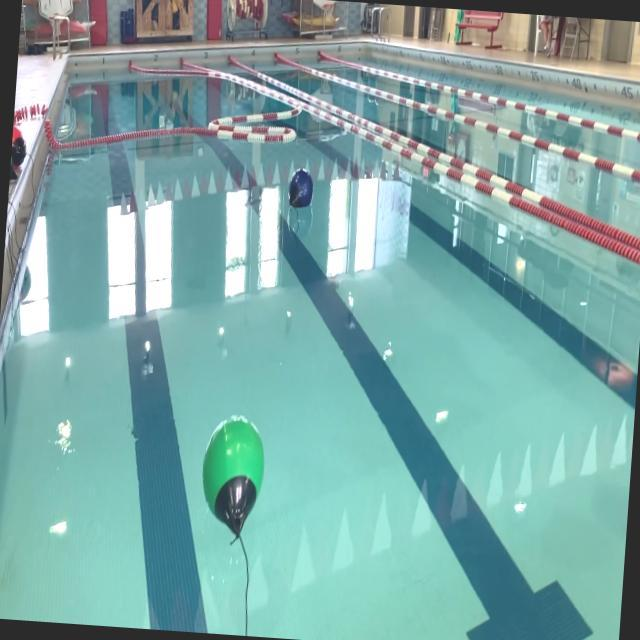buoy: (196, 413, 270, 545), (286, 166, 314, 208)
